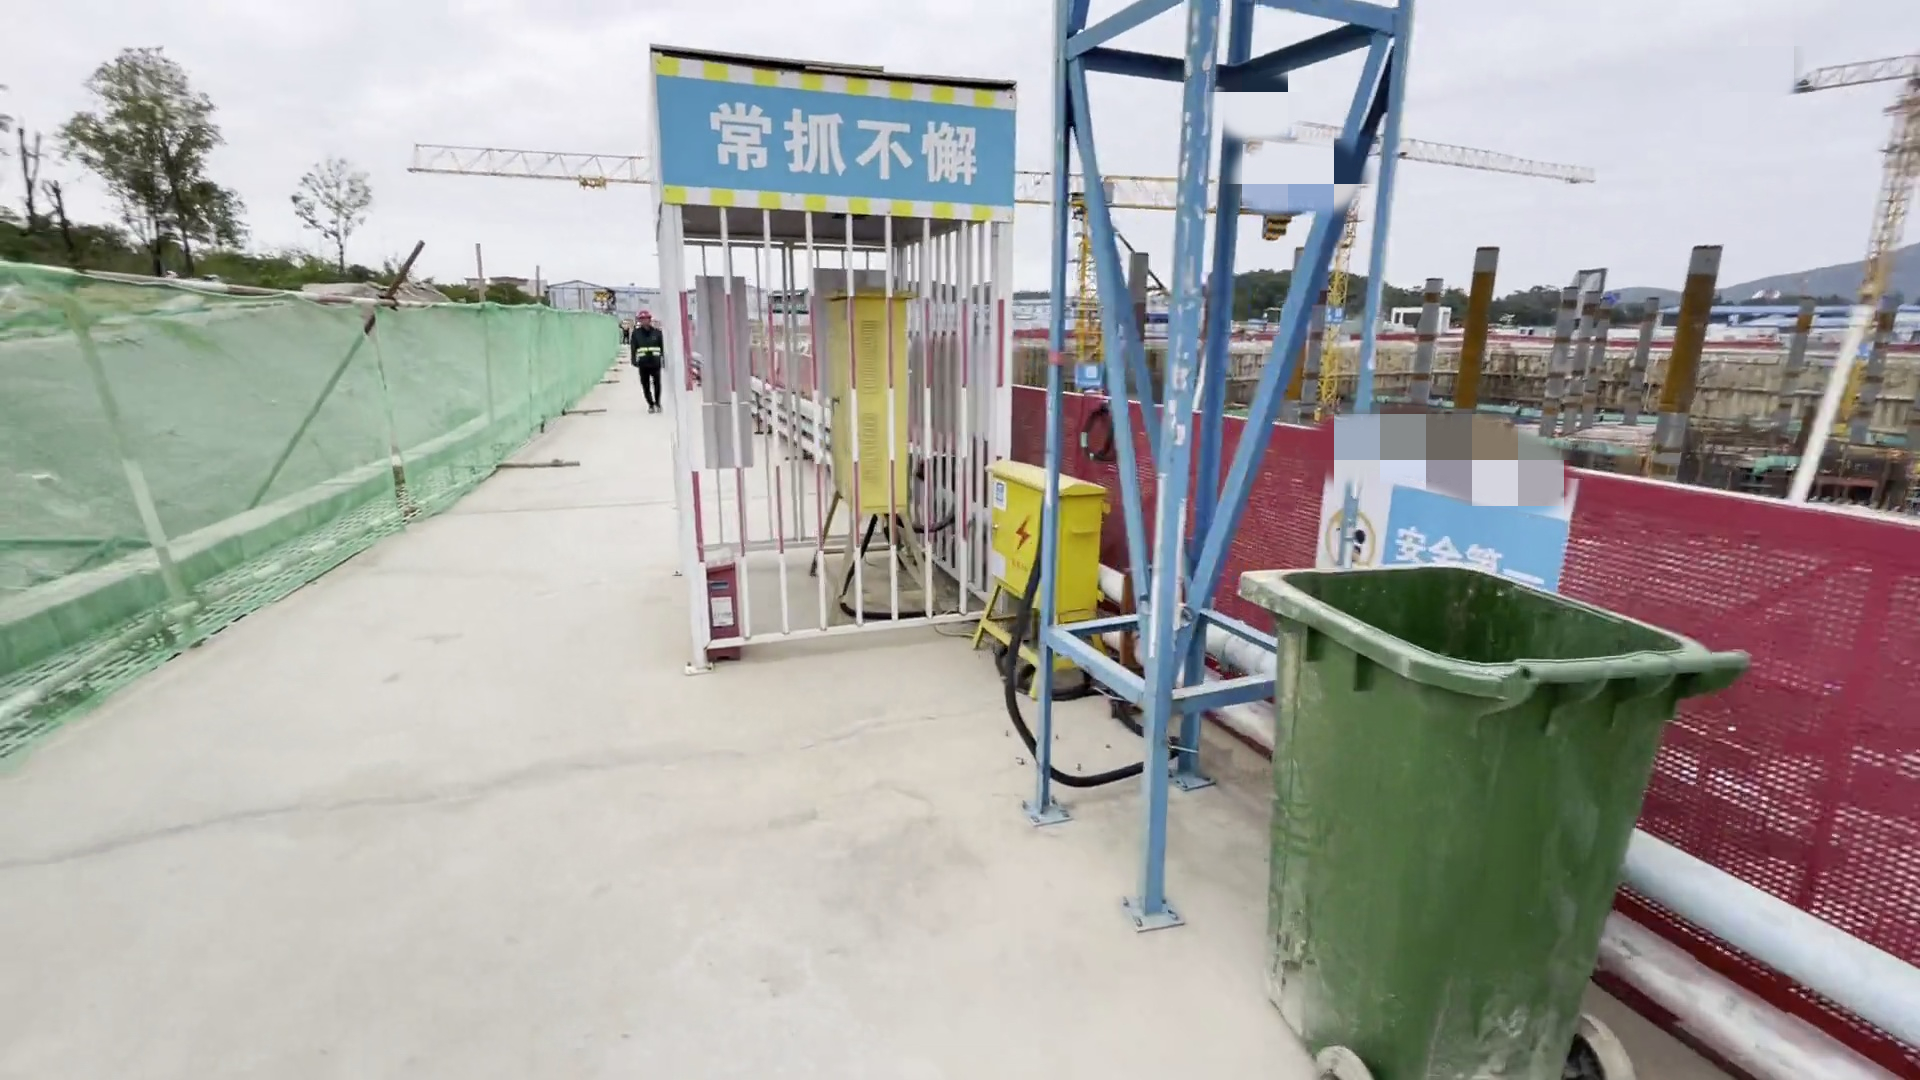ebox: (767, 243, 940, 599), (956, 453, 1069, 700)
fence: (984, 358, 1895, 952)
helmet: (633, 309, 658, 323)
person: (626, 307, 674, 416)
slogan: (658, 50, 1005, 228), (1309, 457, 1545, 592)
vest: (630, 324, 665, 368)
